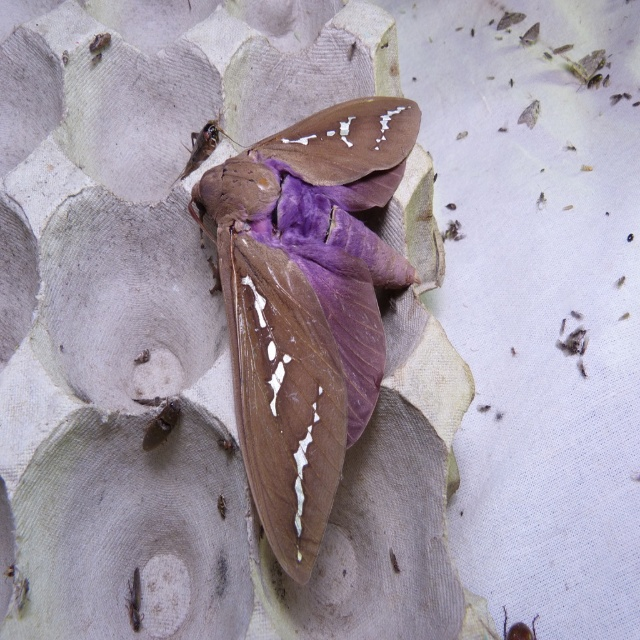Moths and butterflies: (187, 94, 423, 591), (560, 48, 610, 92), (494, 8, 528, 34), (518, 17, 541, 49), (518, 101, 542, 129)
